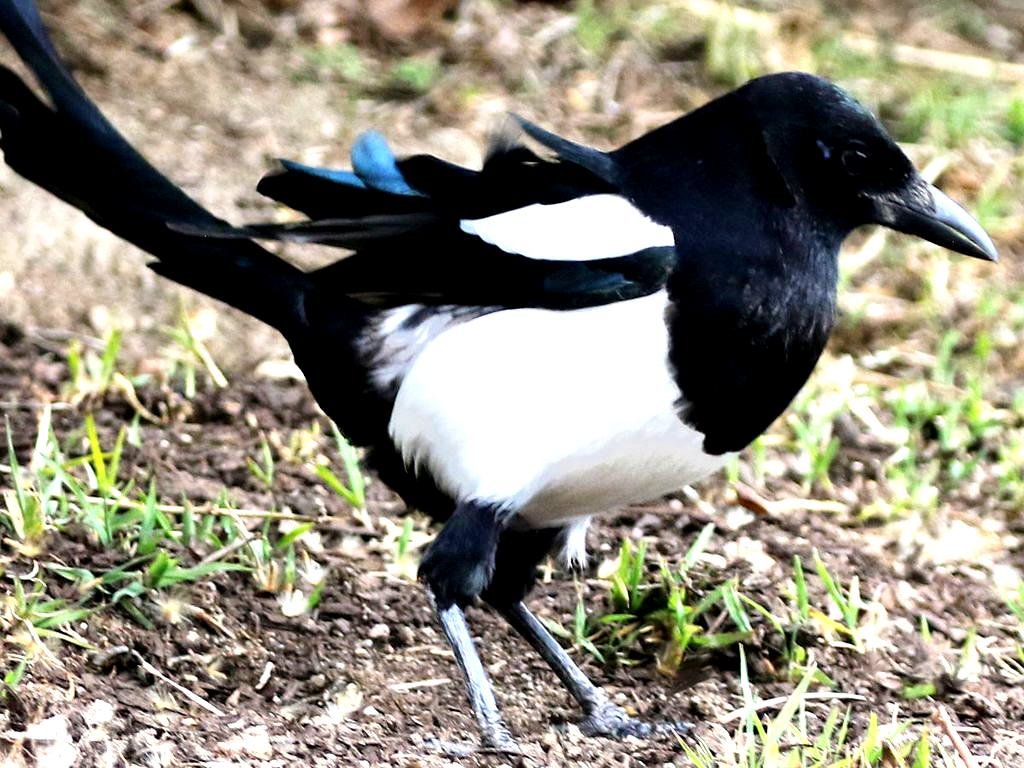PicaPica: (0, 0, 999, 768)
